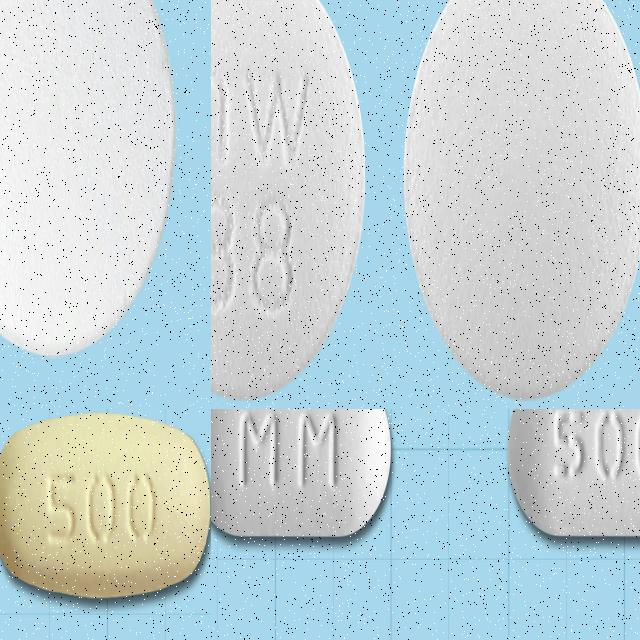Amoclan Duo: (211, 409, 393, 540), (506, 409, 640, 540)
Cirokan: (398, 0, 640, 404), (211, 0, 372, 408)
Ciroxin: (0, 0, 182, 368)
Clabio: (0, 409, 211, 606)
